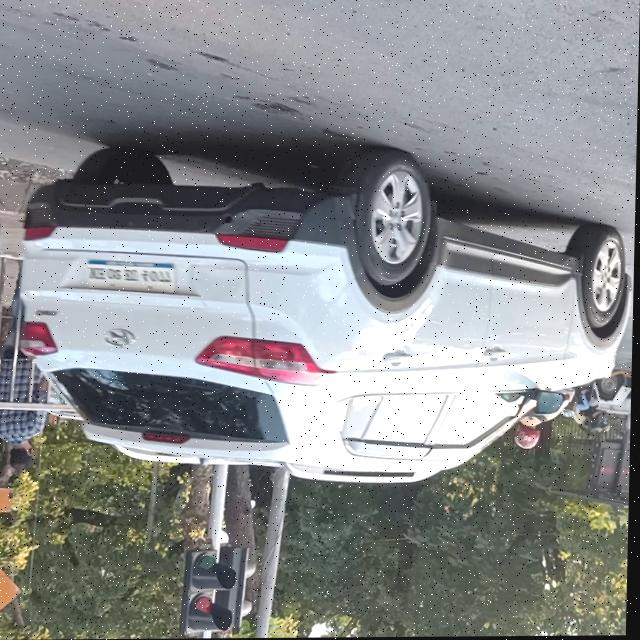plate: (85, 262, 178, 290)
